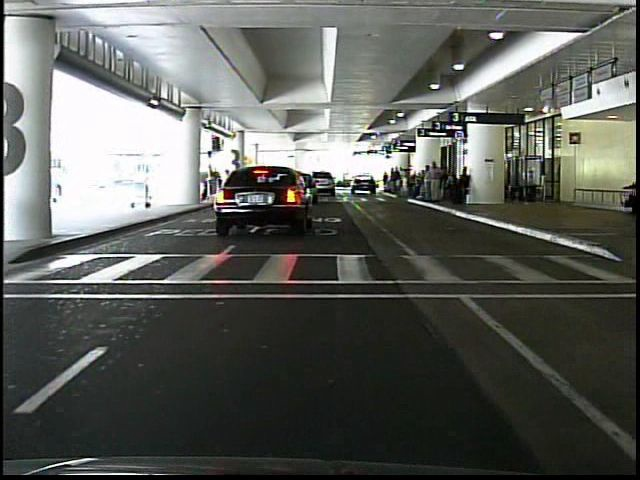person: (425, 157, 446, 209)
